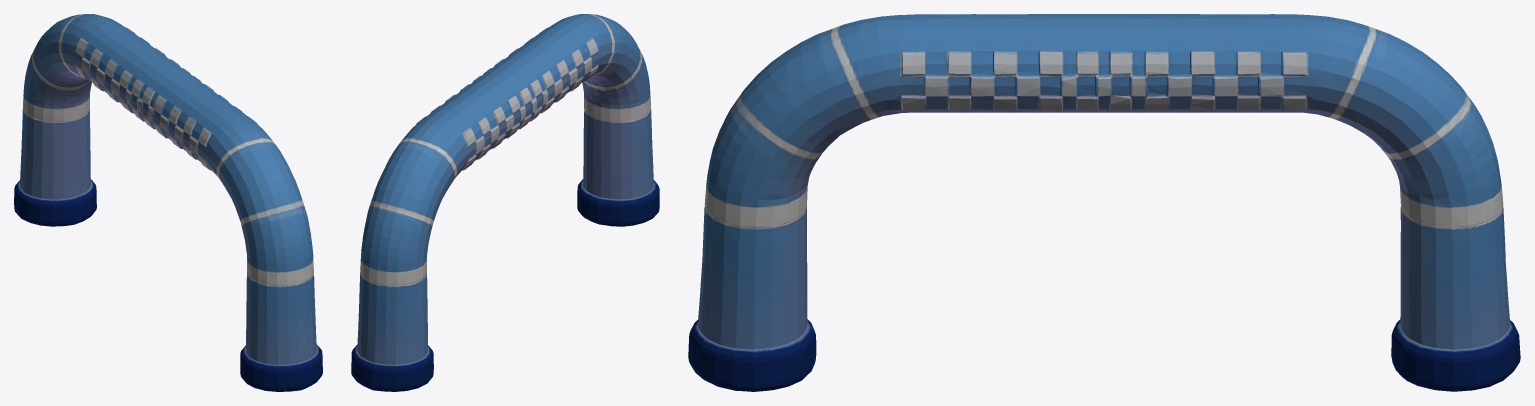
Rendered from beginDoor.glb.
3 views of the same model, side by side, from view 1: azimuth 30°, elevation 25°; view 2: azimuth 150°, elevation 25°; view 3: azimuth 270°, elevation 25° (orthographic). The views are drawn at different scales.
Visible parts, largest first — view 1: tripo_node_988e22fd-79bc-43b1-877c-b9f20de858a4; view 2: tripo_node_988e22fd-79bc-43b1-877c-b9f20de858a4; view 3: tripo_node_988e22fd-79bc-43b1-877c-b9f20de858a4.
Part boxes in pixels (x1,y1,x2,y2): tripo_node_988e22fd-79bc-43b1-877c-b9f20de858a4: [14, 14, 322, 391]; tripo_node_988e22fd-79bc-43b1-877c-b9f20de858a4: [351, 14, 659, 391]; tripo_node_988e22fd-79bc-43b1-877c-b9f20de858a4: [688, 14, 1520, 391].
Size of the model in its own units: 0.1578 by 0.4627 by 1.
1 material, 1 textured.
